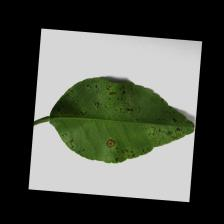canker: (94, 81, 142, 115)
